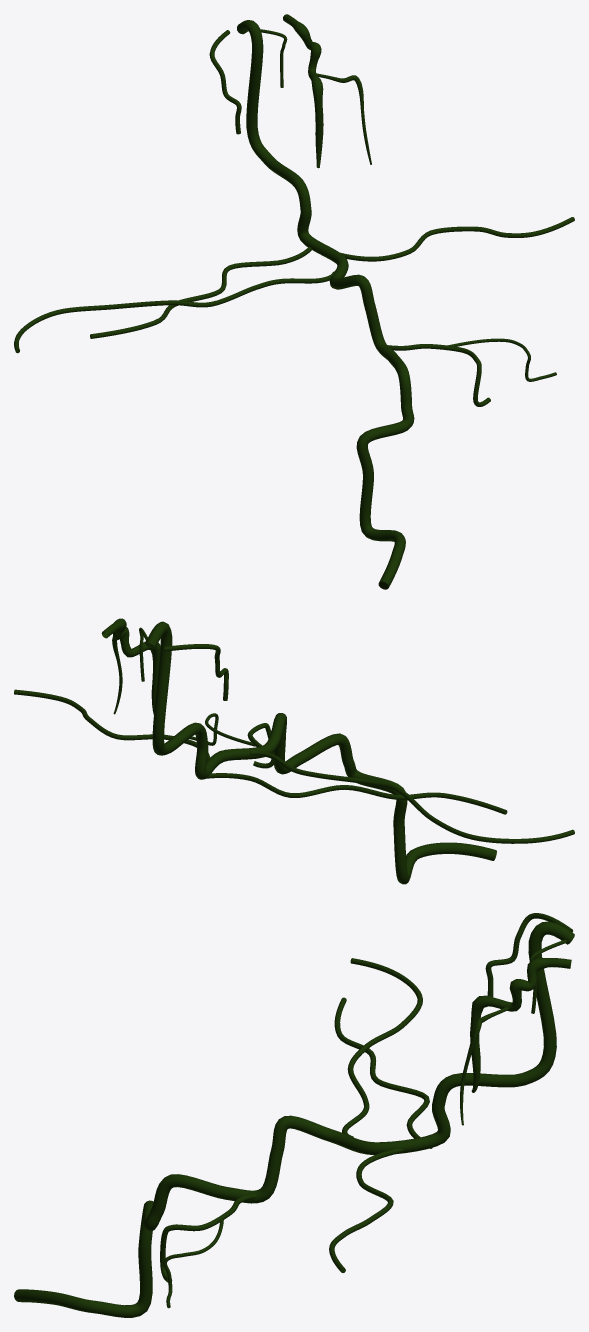
File: Temple_VineClump_RightSide.FBX
3 views of the same model, one above another, from view 1: azimuth 30°, elevation 25°; view 2: azimuth 150°, elevation 25°; view 3: azimuth 270°, elevation 25° (orthographic). The views are drawn at different scales.
Visible parts, largest first — view 1: Line042; view 2: Line042; view 3: Line042.
Boxes of the visible parts, bbox=[...] form: Line042: bbox=[14, 14, 574, 589]; Line042: bbox=[14, 618, 574, 884]; Line042: bbox=[14, 913, 574, 1317].
Bounding box in the file's own units: 39.72 × 25.82 × 30.24.
